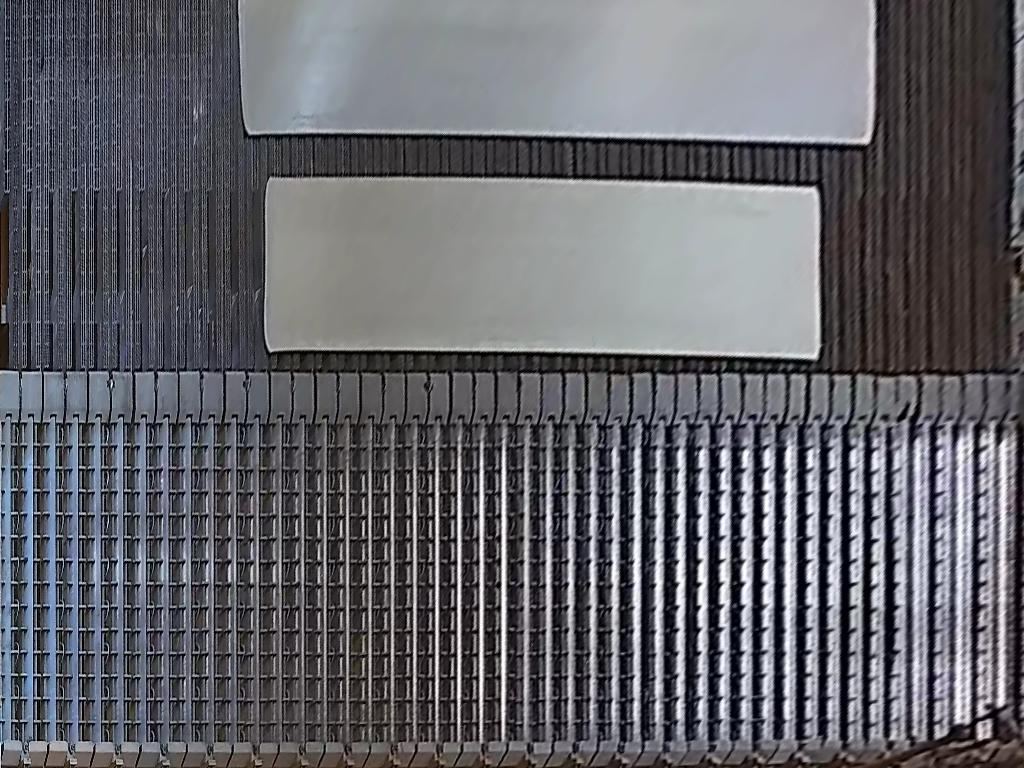steel: (262, 175, 820, 359), (237, 1, 876, 144)
